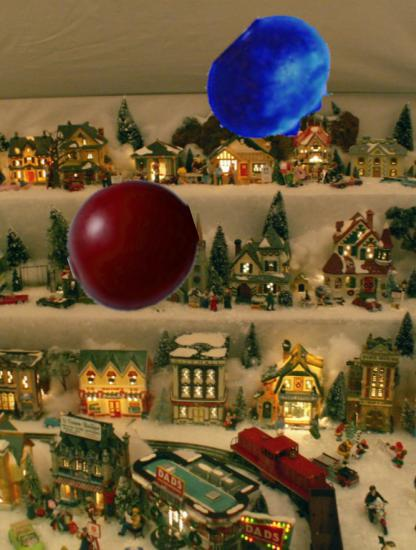Cherry: (66, 179, 198, 311)
Huckleberry: (204, 13, 341, 150)
